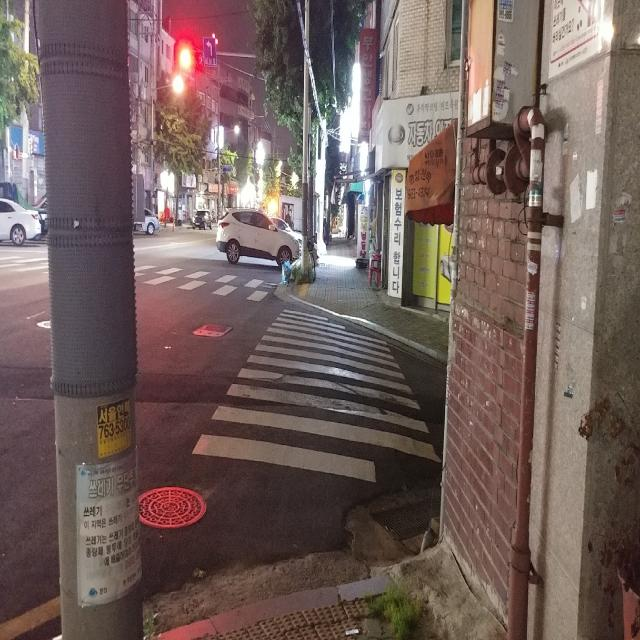횡단보도: (189, 305, 443, 486), (131, 259, 275, 297)
